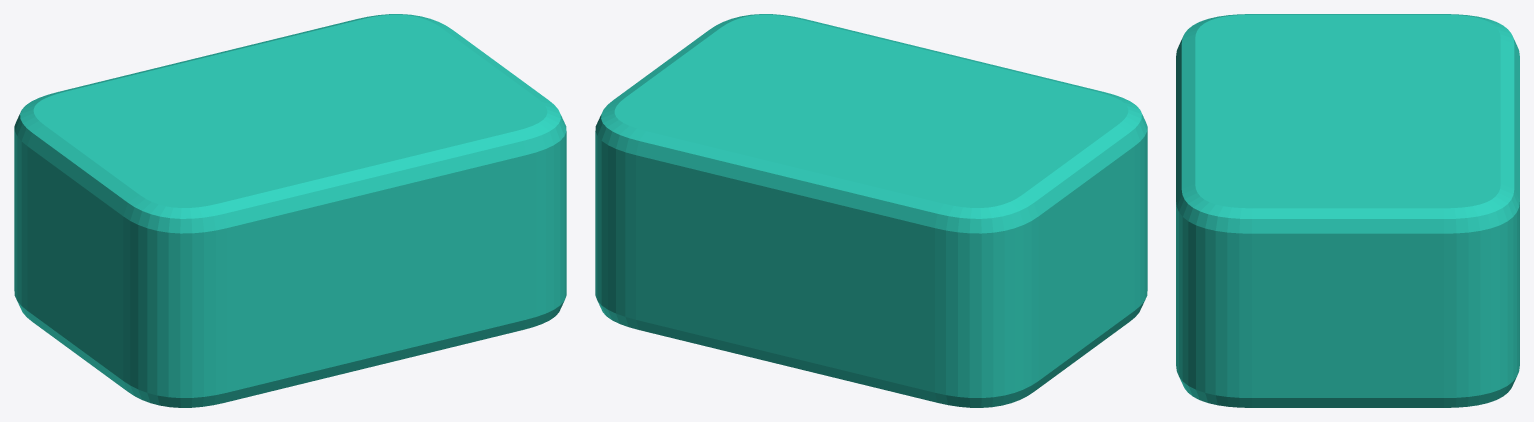
The model's file is soap-box.glb.
3 renders of one model, left to right at view 1: azimuth 30°, elevation 25°; view 2: azimuth 150°, elevation 25°; view 3: azimuth 270°, elevation 25°, orthographic.
Parts seen in each view (by area): view 1: Soap_Carton; view 2: Soap_Carton; view 3: Soap_Carton.
Boxes of the visible parts, x1=… form: Soap_Carton: x1=14, y1=14, x2=566, y2=407; Soap_Carton: x1=595, y1=14, x2=1147, y2=407; Soap_Carton: x1=1176, y1=14, x2=1519, y2=407.
Size of the model in its own units: 0.104 by 0.046 by 0.072.
